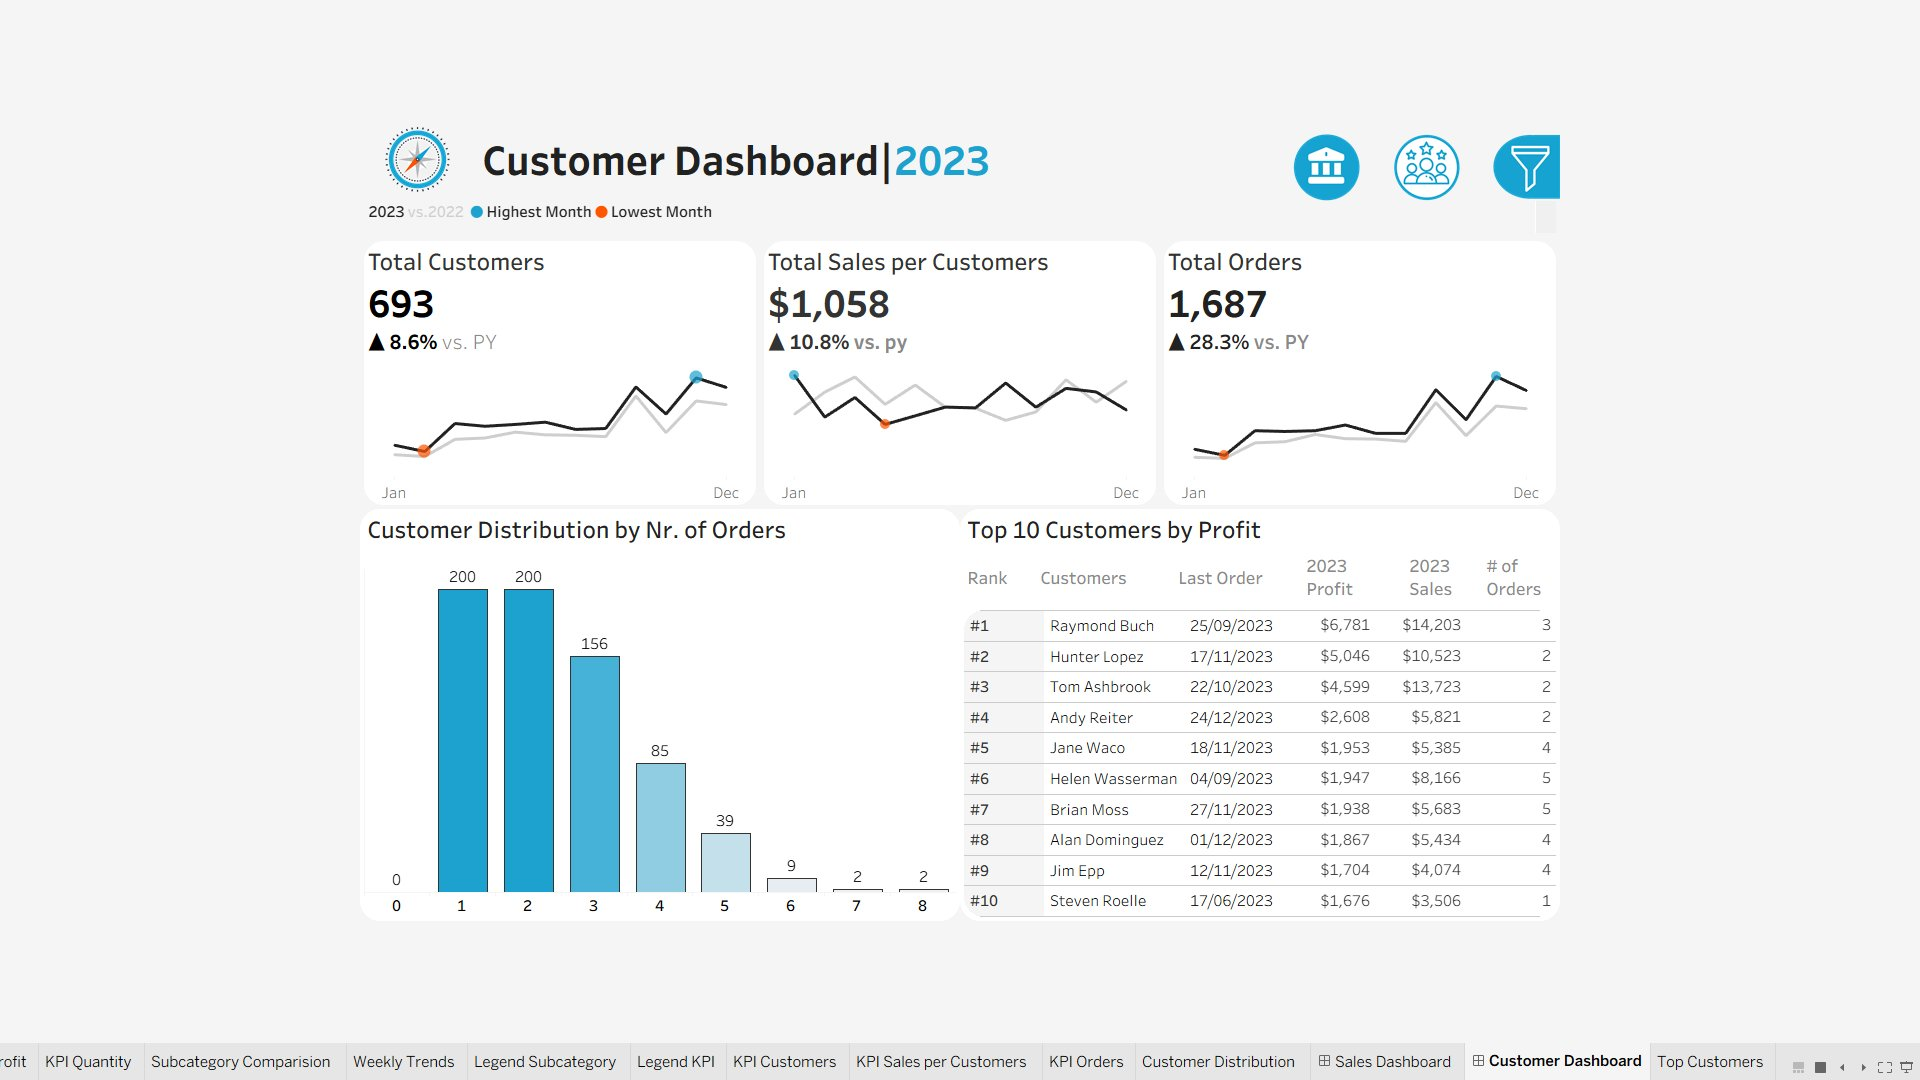

Layout of this report page (visuals, bound fields, positions):
{"tool":"tableau","page":{"name":"Customer Dashboard","canvas":[1200,800],"ordinal":0},"visuals":[{"type":"image","param":"Image/Icon - Logo.png","box":[0,0,115,76]},{"type":"text","box":[115,0,1085,76]},{"type":"blank","box":[929,0,271,103]},{"type":"dashboard-object","box":[916,8,100,76]},{"type":"dashboard-object","box":[1016,8,100,76]},{"type":"worksheet","title":"Legend KPI","mark":"Automatic","box":[0,76,1200,40]},{"type":"text","box":[929,103,271,40]},{"type":"worksheet","title":"KPI Customers","mark":"Line","rows":["Calculation_0735035984158726"],"cols":["Order Date"],"box":[0,116,400,272]},{"type":"worksheet","title":"KPI Sales per Customers","mark":"Line","rows":["Calculation_0735035997016074"],"cols":["Order Date"],"box":[400,116,400,272]},{"type":"worksheet","title":"KPI Orders","mark":"Line","rows":["Calculation_0735036004773905"],"cols":["Order Date"],"box":[800,116,400,272]},{"type":"parameter","param":"[Parameters].[Parameter 1]","box":[929,143,271,56]},{"type":"blank","box":[929,199,271,50]},{"type":"text","box":[929,249,271,40]},{"type":"filter","title":"KPI Customers","param":"[federated.0juyymr0tk4dg911i47vj0x88cpe].[none:Category:nk]","box":[929,289,271,61]},{"type":"filter","title":"KPI Customers","param":"[federated.0juyymr0tk4dg911i47vj0x88cpe].[none:Sub-Category:nk]","box":[929,350,271,61]},{"type":"text","box":[0,388,600,40]},{"type":"text","box":[600,388,600,40]},{"type":"text","box":[929,411,271,33]},{"type":"worksheet","title":"Customer Distribution","mark":"Bar","rows":["Calculation_0735035981340672"],"cols":["Calculation_0735036014305300"],"box":[0,428,600,372]},{"type":"text","box":[600,428,73,57]},{"type":"text","box":[673,428,138,57]},{"type":"text","box":[811,428,128,57]},{"type":"text","box":[939,428,103,57]},{"type":"text","box":[1042,428,77,57]},{"type":"text","box":[1119,428,81,57]},{"type":"filter","title":"KPI Customers","param":"[federated.0juyymr0tk4dg911i47vj0x88cpe].[none:Region:nk]","box":[929,444,271,61]},{"type":"worksheet","title":"Top Customers","mark":"Automatic","rows":["Calculation_0735036018536470","Customer Name","Order Date"],"box":[600,485,600,315]},{"type":"filter","title":"KPI Customers","param":"[federated.0juyymr0tk4dg911i47vj0x88cpe].[none:State:nk]","box":[929,505,271,61]},{"type":"filter","title":"KPI Customers","param":"[federated.0juyymr0tk4dg911i47vj0x88cpe].[none:City:nk]","box":[929,566,271,61]}]}

Visuals, with their boxes on the page's 1200x800 design canvas (x1, y1, x2, y2). These are canvas units, not pixel positions in the 1920x1080 screenshot, which may show the page scaled, cropped or inside an application window:
image: detection(0, 0, 115, 76)
text: detection(115, 0, 1200, 76)
blank: detection(929, 0, 1200, 103)
dashboard-object: detection(916, 8, 1016, 84)
dashboard-object: detection(1016, 8, 1116, 84)
"Legend KPI" worksheet: detection(0, 76, 1200, 116)
text: detection(929, 103, 1200, 143)
"KPI Customers" worksheet (Line marks): detection(0, 116, 400, 388)
"KPI Sales per Customers" worksheet (Line marks): detection(400, 116, 800, 388)
"KPI Orders" worksheet (Line marks): detection(800, 116, 1200, 388)
parameter: detection(929, 143, 1200, 199)
blank: detection(929, 199, 1200, 249)
text: detection(929, 249, 1200, 289)
"KPI Customers" filter: detection(929, 289, 1200, 350)
"KPI Customers" filter: detection(929, 350, 1200, 411)
text: detection(0, 388, 600, 428)
text: detection(600, 388, 1200, 428)
text: detection(929, 411, 1200, 444)
"Customer Distribution" worksheet (Bar marks): detection(0, 428, 600, 800)
text: detection(600, 428, 673, 485)
text: detection(673, 428, 811, 485)
text: detection(811, 428, 939, 485)
text: detection(939, 428, 1042, 485)
text: detection(1042, 428, 1119, 485)
text: detection(1119, 428, 1200, 485)
"KPI Customers" filter: detection(929, 444, 1200, 505)
"Top Customers" worksheet: detection(600, 485, 1200, 800)
"KPI Customers" filter: detection(929, 505, 1200, 566)
"KPI Customers" filter: detection(929, 566, 1200, 627)
